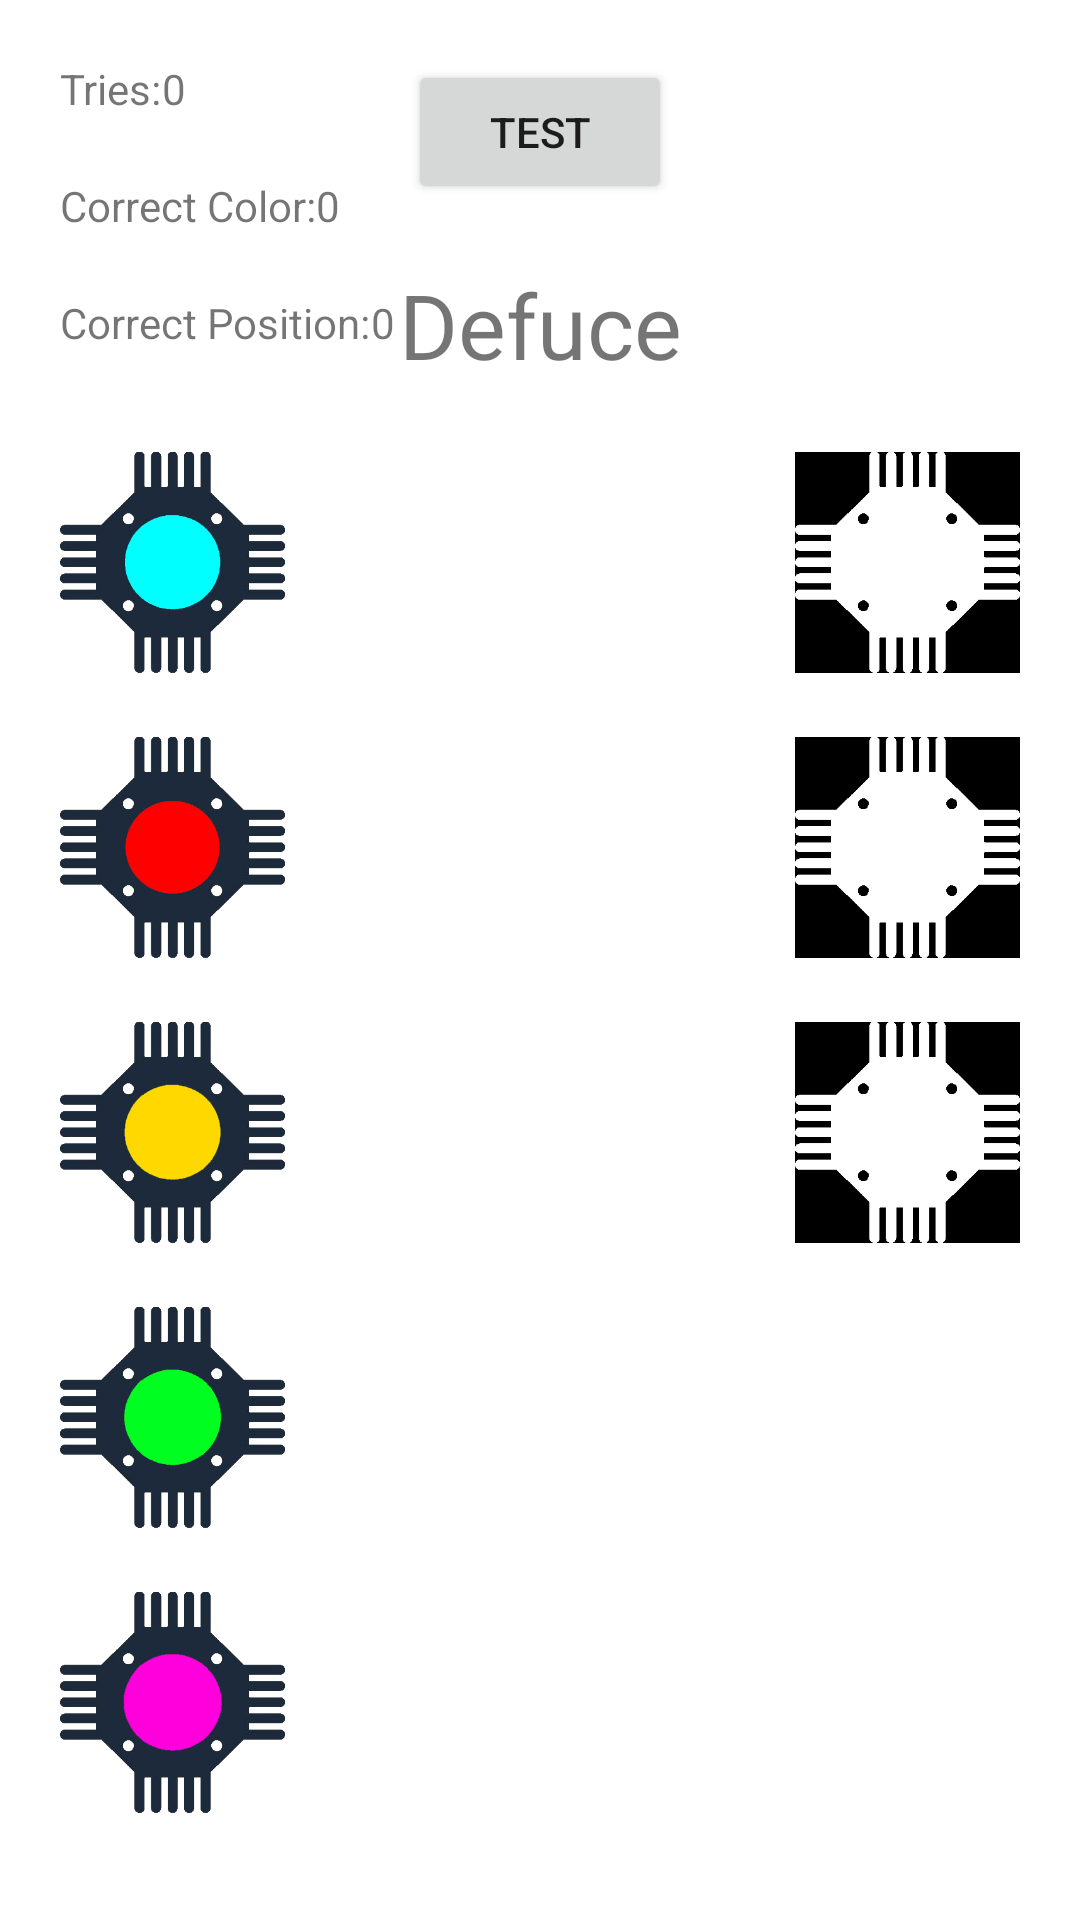

Point at icon controls on the screen. Image size 1080x1920, points as (x=x, y=y).
object to put: (x=172, y=562), (x=172, y=847), (x=172, y=1132), (x=172, y=1417), (x=172, y=1702)
place to put: (x=907, y=562), (x=907, y=847), (x=907, y=1132)
